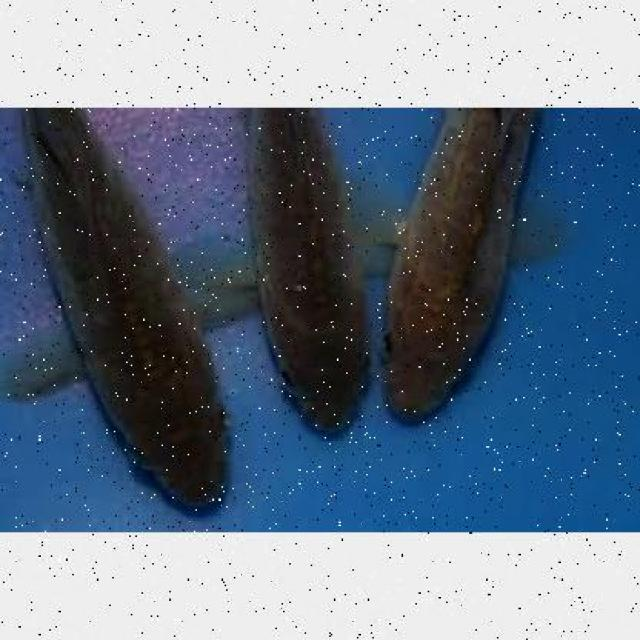ikan-mas: (0, 104, 237, 503), (374, 108, 558, 434), (228, 105, 368, 442)
